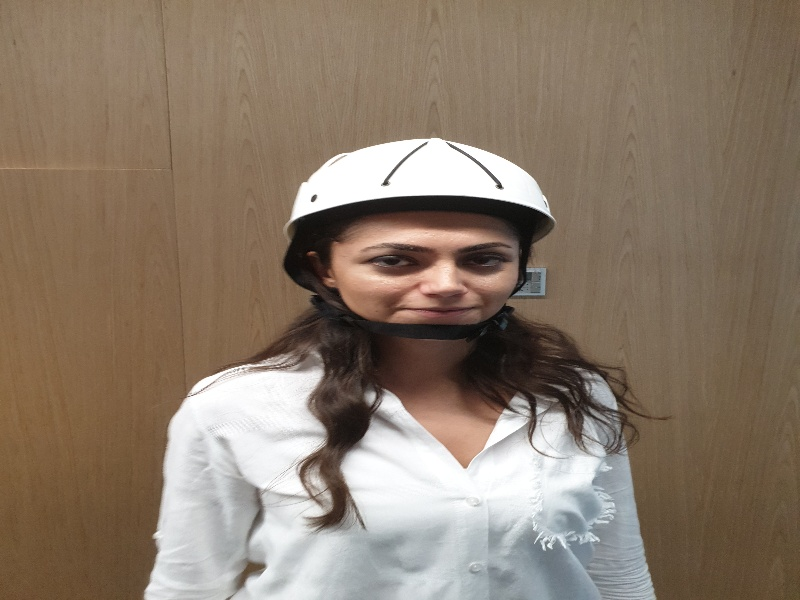Baret: (288, 136, 556, 235)
